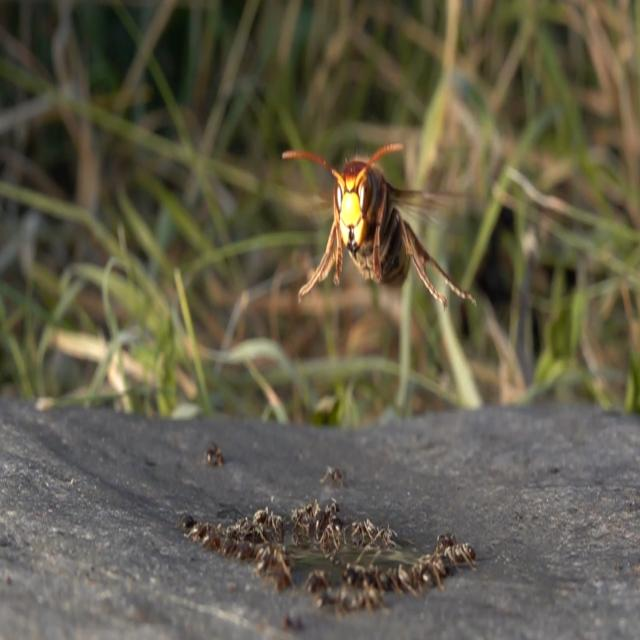Hornets: (278, 138, 484, 322)
